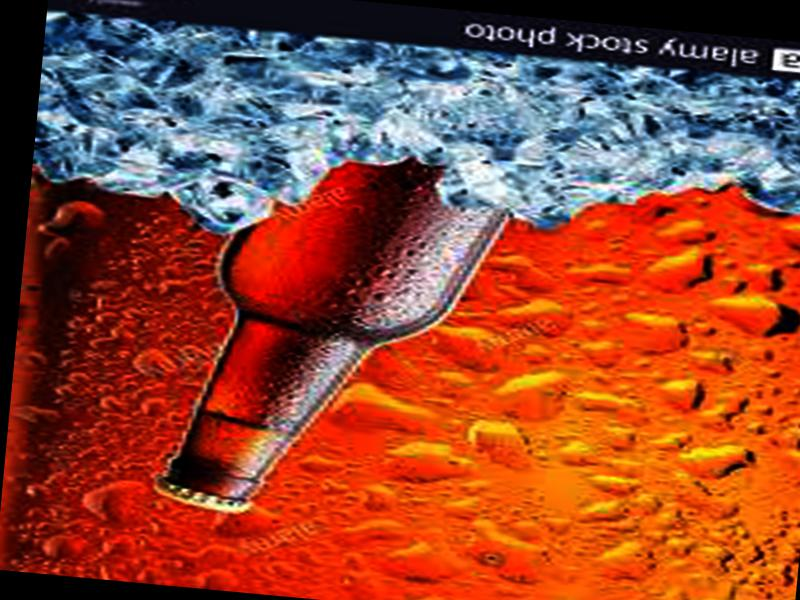Beer: (134, 133, 509, 536)
